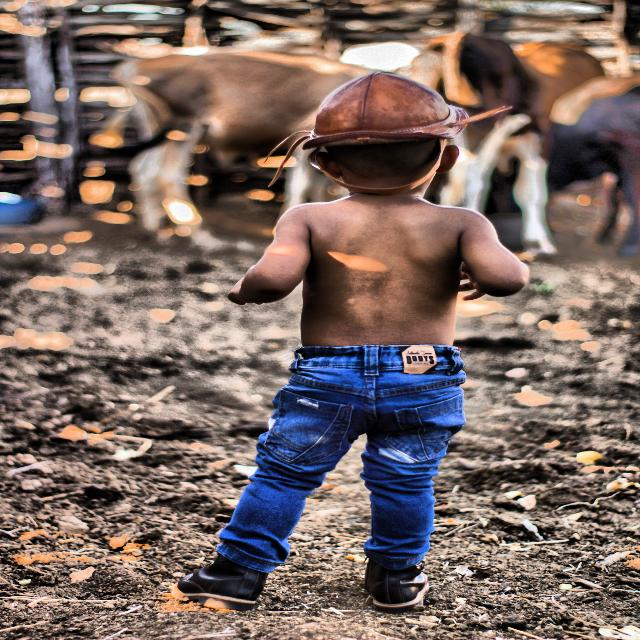Human: (190, 61, 510, 613)
